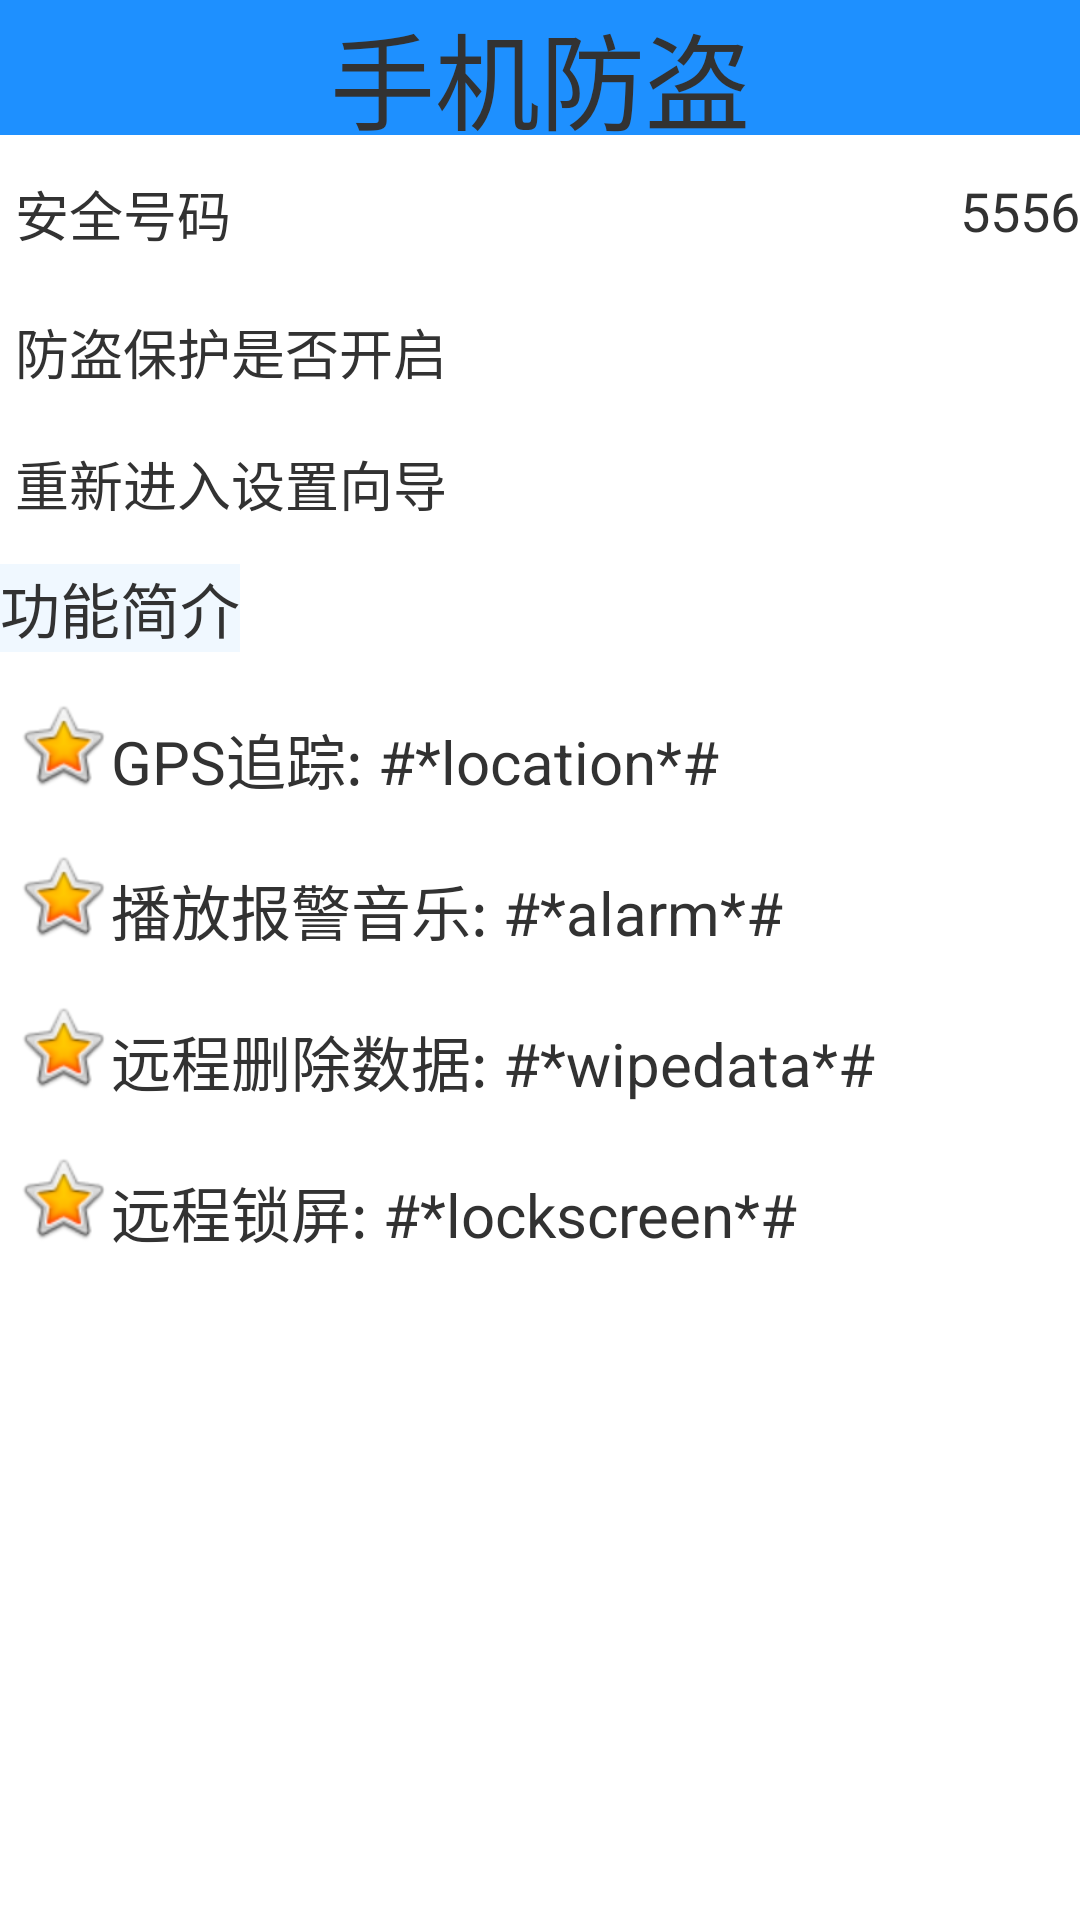

Icons on this 1080w x 1920h Android screen, each with the point to tap as point (x, y):
star on: point (64, 746), point (64, 897), point (64, 1048), point (64, 1199)
